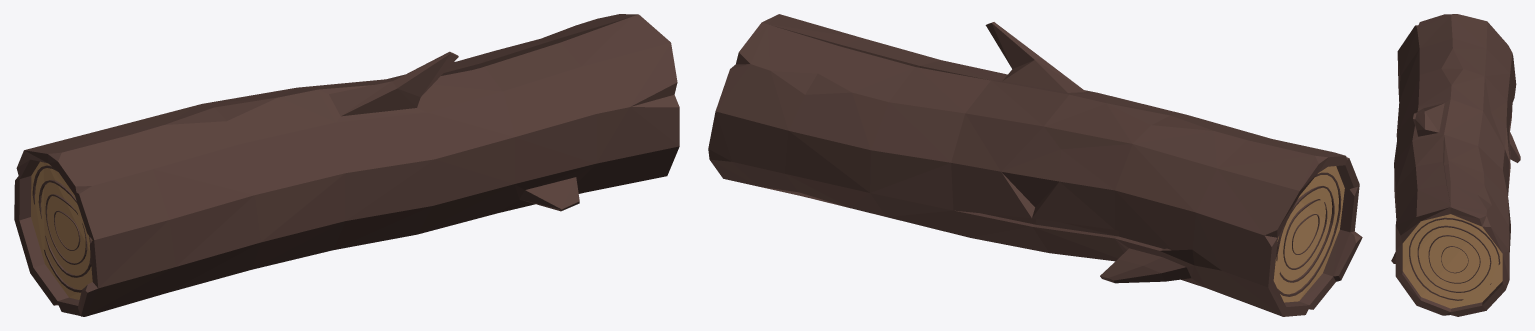
The model's file is Log 3.fbx.
The picture shows the model from 3 angles, left to right: view 1: azimuth 30°, elevation 25°; view 2: azimuth 150°, elevation 25°; view 3: azimuth 270°, elevation 25°; orthographic projection. The views are drawn at different scales.
Parts seen in each view (by area): view 1: Log 3; view 2: Log 3; view 3: Log 3.
Boxes of the visible parts, x1,y1,x2,y2 form: Log 3: (14, 14, 679, 316); Log 3: (708, 14, 1362, 316); Log 3: (1391, 14, 1520, 316).
Size of the model in its own units: 4.63 by 1.42 by 1.28.
